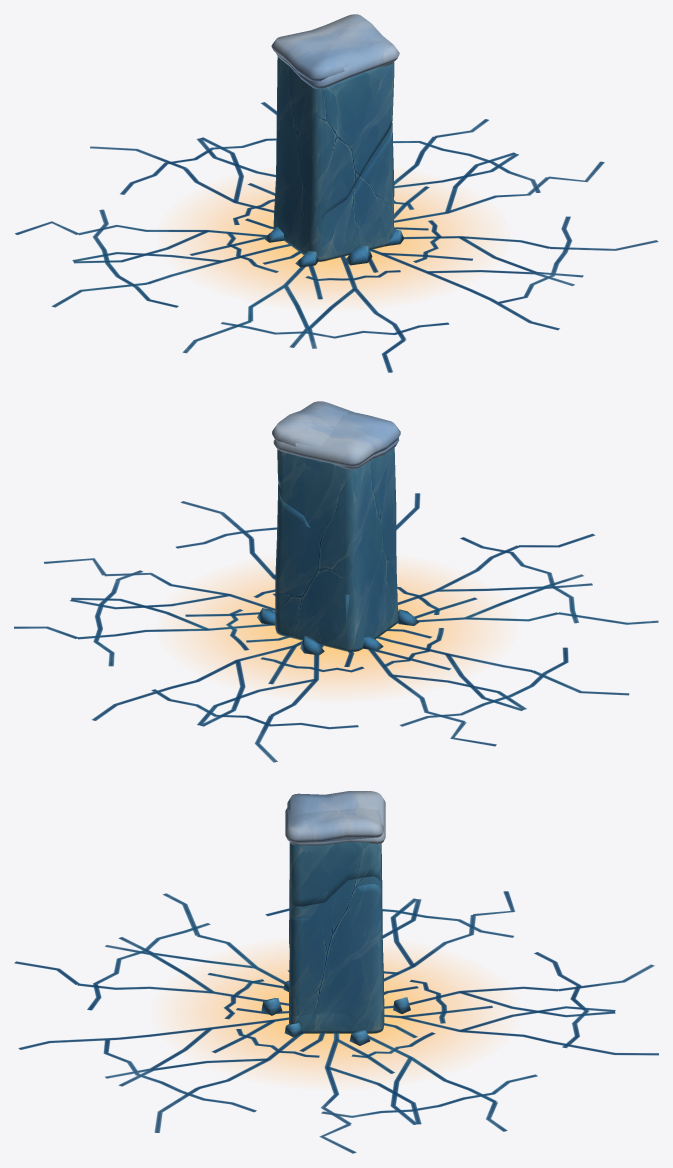
Rendered from r01_pecas.glb.
3 renders of one model, top to bottom at view 1: azimuth 30°, elevation 25°; view 2: azimuth 150°, elevation 25°; view 3: azimuth 270°, elevation 25°, orthographic. The views are drawn at different scales.
Visible parts, largest first — view 1: floor_luz_quente_braseiro, Coluna_inteiro, floor_lago_rachaduras_galhos_aneis, Coluna_rachado, floor_lago_rachaduras_09cm, Neve_topo_Pilar_rachado, Neve_topo_Pilar_inteiro; view 2: Coluna_inteiro, floor_luz_quente_braseiro, floor_lago_rachaduras_galhos_aneis, floor_lago_rachaduras_09cm, Neve_topo_Pilar_inteiro, Neve_topo_Pilar_rachado, Coluna_rachado; view 3: floor_luz_quente_braseiro, floor_lago_rachaduras_galhos_aneis, Coluna_inteiro, Coluna_rachado, floor_lago_rachaduras_09cm, Neve_topo_Pilar_rachado, Neve_topo_Pilar_inteiro, Coluna_toco.
Part boxes in pixels (x1,y1,x2,y2): floor_luz_quente_braseiro: (187, 180, 480, 298); Coluna_inteiro: (273, 56, 394, 261); floor_lago_rachaduras_galhos_aneis: (15, 102, 658, 372); Coluna_rachado: (321, 62, 394, 235); floor_lago_rachaduras_09cm: (77, 136, 549, 339); Neve_topo_Pilar_rachado: (276, 14, 399, 88); Neve_topo_Pilar_inteiro: (271, 30, 394, 81); Coluna_inteiro: (275, 447, 398, 651); floor_luz_quente_braseiro: (187, 568, 487, 689); floor_lago_rachaduras_galhos_aneis: (14, 493, 658, 762); floor_lago_rachaduras_09cm: (77, 538, 558, 722); Neve_topo_Pilar_inteiro: (273, 411, 400, 466); Neve_topo_Pilar_rachado: (272, 401, 399, 469); Coluna_rachado: (277, 449, 349, 630); floor_luz_quente_braseiro: (183, 951, 489, 1076); floor_lago_rachaduras_galhos_aneis: (14, 891, 658, 1153); Coluna_inteiro: (289, 843, 384, 1033); Coluna_rachado: (289, 842, 382, 963); floor_lago_rachaduras_09cm: (77, 915, 558, 1124); Neve_topo_Pilar_rachado: (285, 808, 383, 843); Neve_topo_Pilar_inteiro: (287, 791, 385, 845); Coluna_toco: (290, 1013, 383, 1033).
Size of the model in its own units: 13.88 by 4.73 by 13.19.
Materials: 8 (5 with a texture image).
